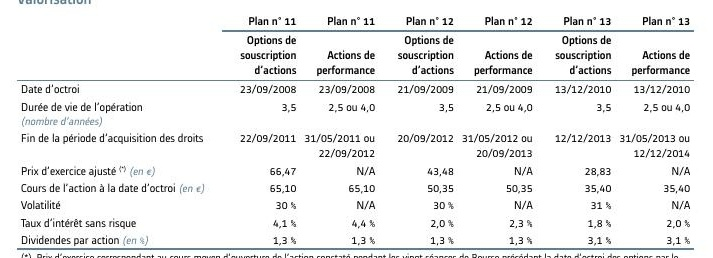table: (0, 0, 713, 258)
